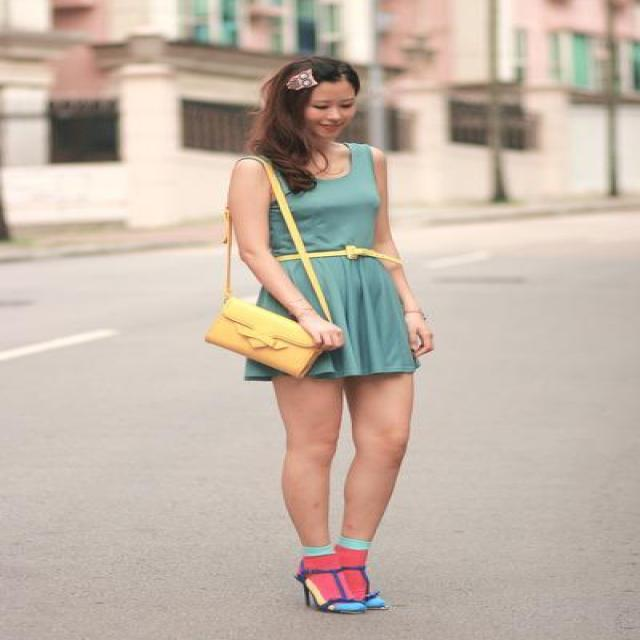bag: (208, 199, 325, 370)
dress: (245, 141, 430, 381)
shoe: (296, 576, 382, 613)
